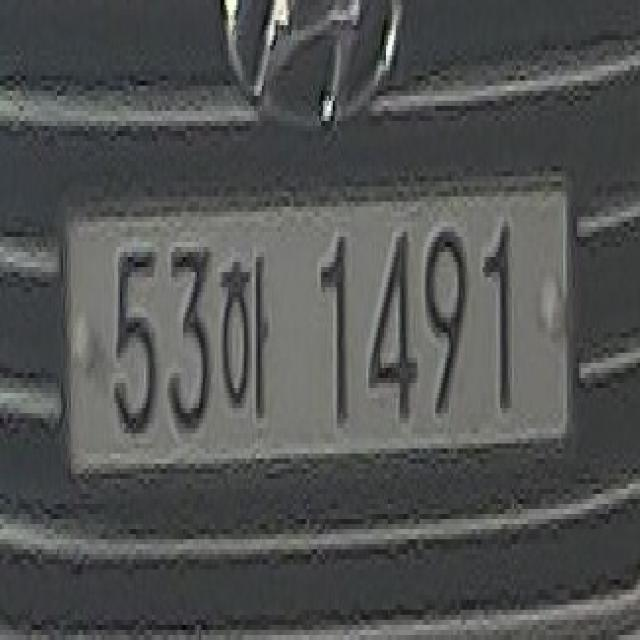1: (309, 226, 364, 464), (482, 202, 514, 428)
3: (167, 232, 211, 438)
4: (367, 212, 418, 444)
5: (102, 232, 166, 453)
9: (416, 212, 470, 444)
ha: (215, 222, 288, 454)
license_plate: (51, 196, 577, 474)
